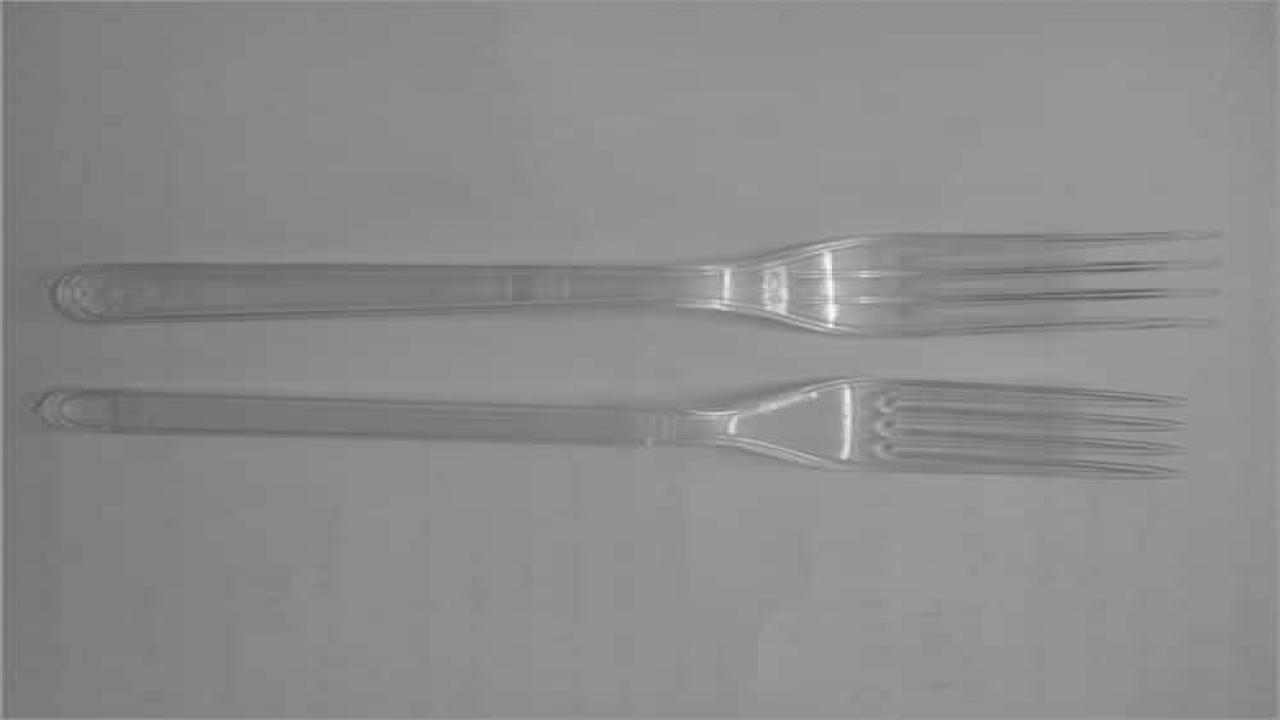fork: (49, 227, 1226, 337), (29, 376, 1190, 480)
